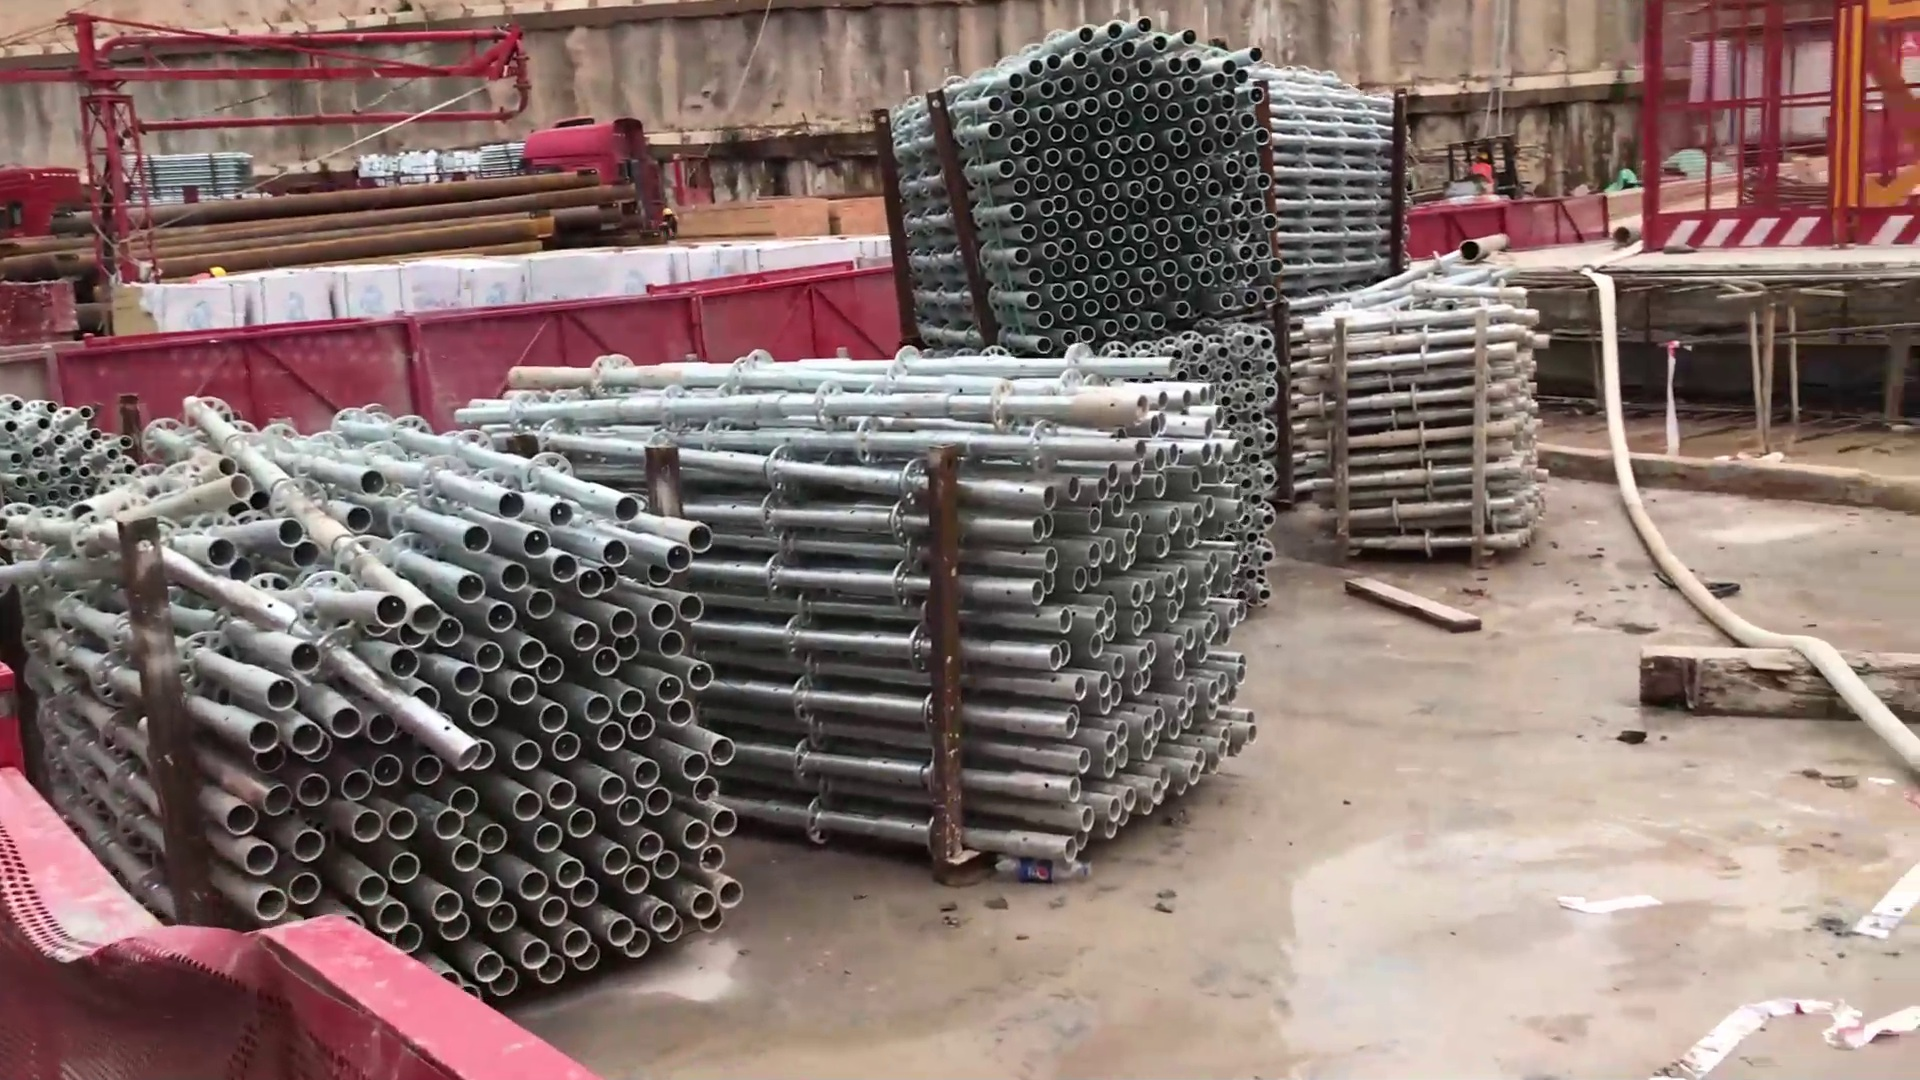fence: (49, 851, 527, 1080), (119, 257, 899, 392), (1629, 1, 1871, 256)
scaffold: (28, 409, 746, 957), (666, 334, 1307, 899), (906, 13, 1381, 320), (1323, 278, 1556, 560)
wood: (678, 194, 891, 239)
